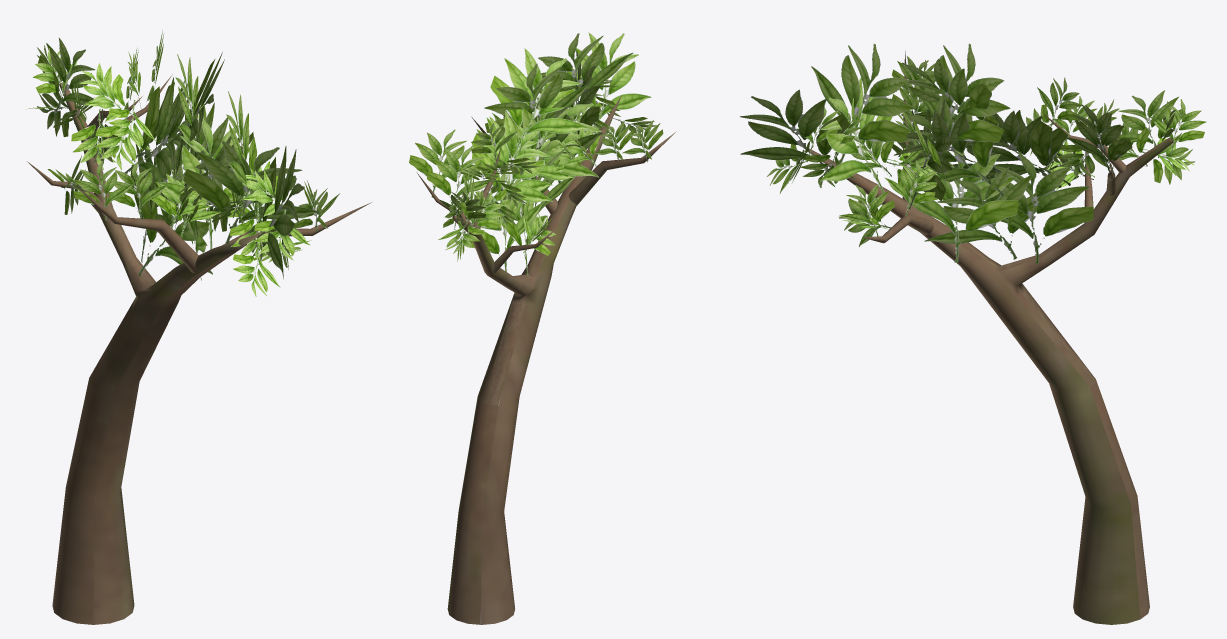
Rendered from tree.fbx.
3 renders of one model, left to right at view 1: azimuth 30°, elevation 25°; view 2: azimuth 150°, elevation 25°; view 3: azimuth 270°, elevation 25°, orthographic. The views are drawn at different scales.
Parts seen in each view (by area): view 1: Tree; view 2: Tree; view 3: Tree.
Part boxes in pixels (bbox=[...]): Tree: bbox=[26, 30, 371, 624]; Tree: bbox=[409, 32, 676, 624]; Tree: bbox=[740, 43, 1206, 624].
Size of the model in its own units: 19.91 by 43.29 by 33.92.
1 material, 1 textured.
